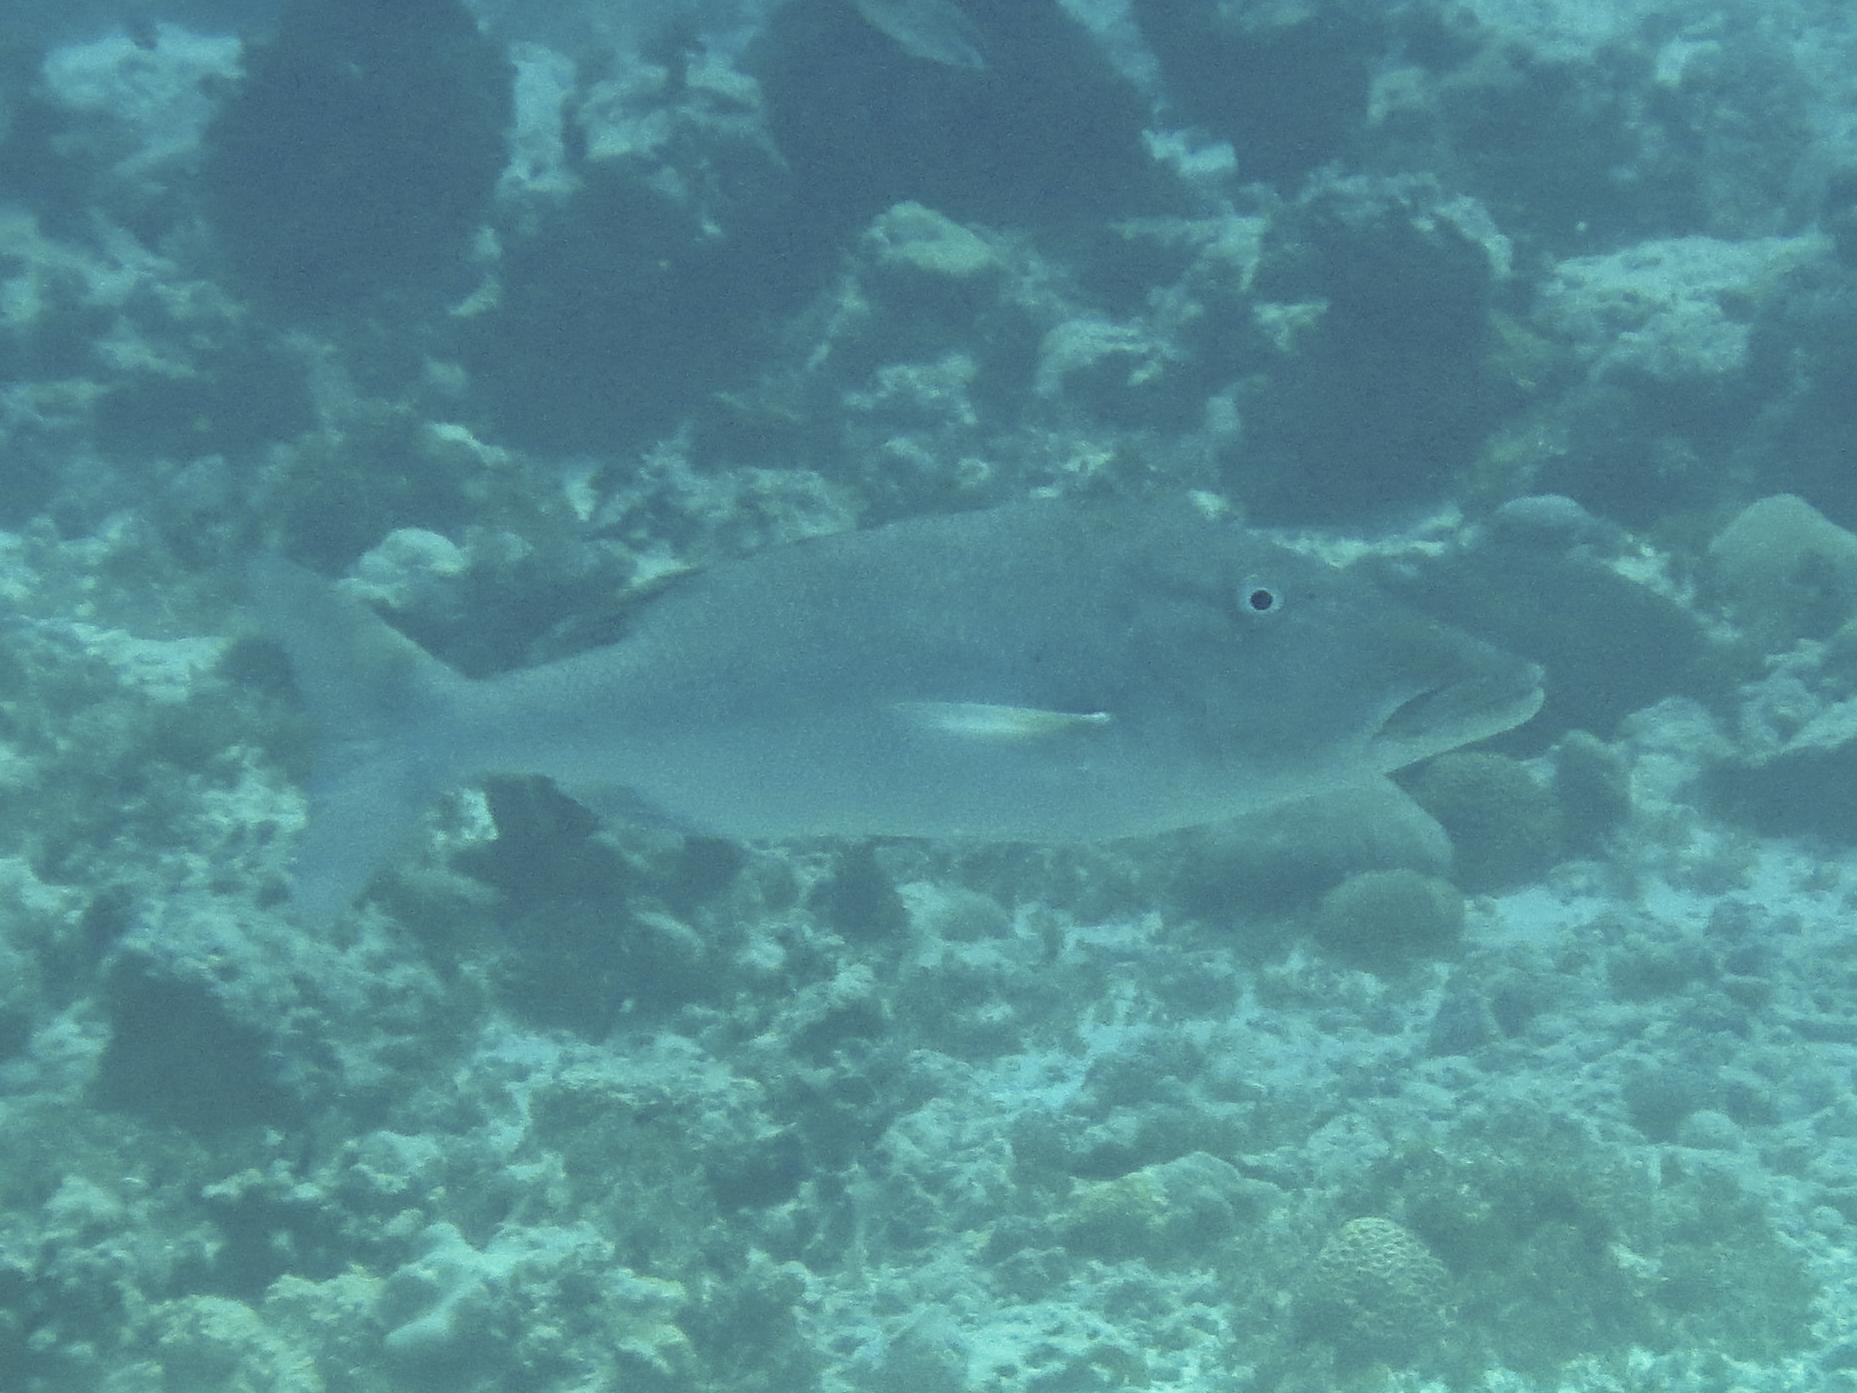Lethrinus rubioperculatus: (203, 477, 1610, 938)
